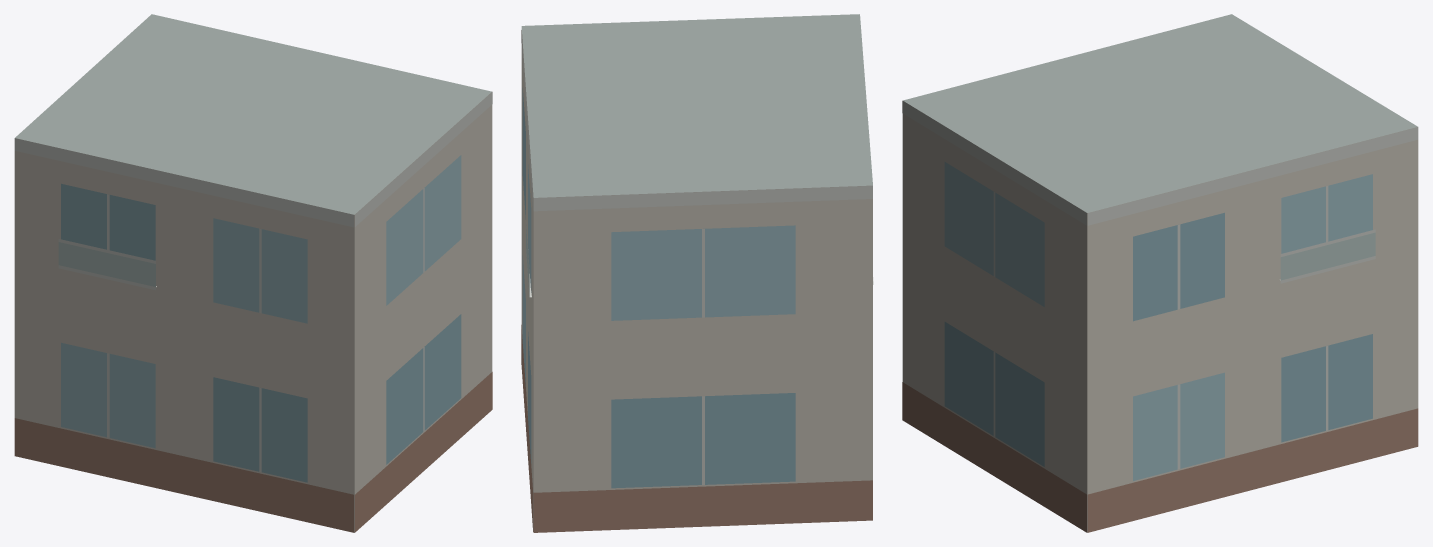
Rendered from survey-upis-32921747.glb.
3 renders of one model, left to right at view 1: azimuth 30°, elevation 25°; view 2: azimuth 150°, elevation 25°; view 3: azimuth 270°, elevation 25°, orthographic. The views are drawn at different scales.
Parts seen in each view (by area): view 1: survey-upis-32921747.tmp; view 2: survey-upis-32921747.tmp; view 3: survey-upis-32921747.tmp.
Part boxes in pixels (bbox=[...]): survey-upis-32921747.tmp: bbox=[14, 14, 492, 532]; survey-upis-32921747.tmp: bbox=[521, 14, 873, 532]; survey-upis-32921747.tmp: bbox=[902, 14, 1418, 532].
Size of the model in its own units: 8.15 by 6.1 by 8.93.
